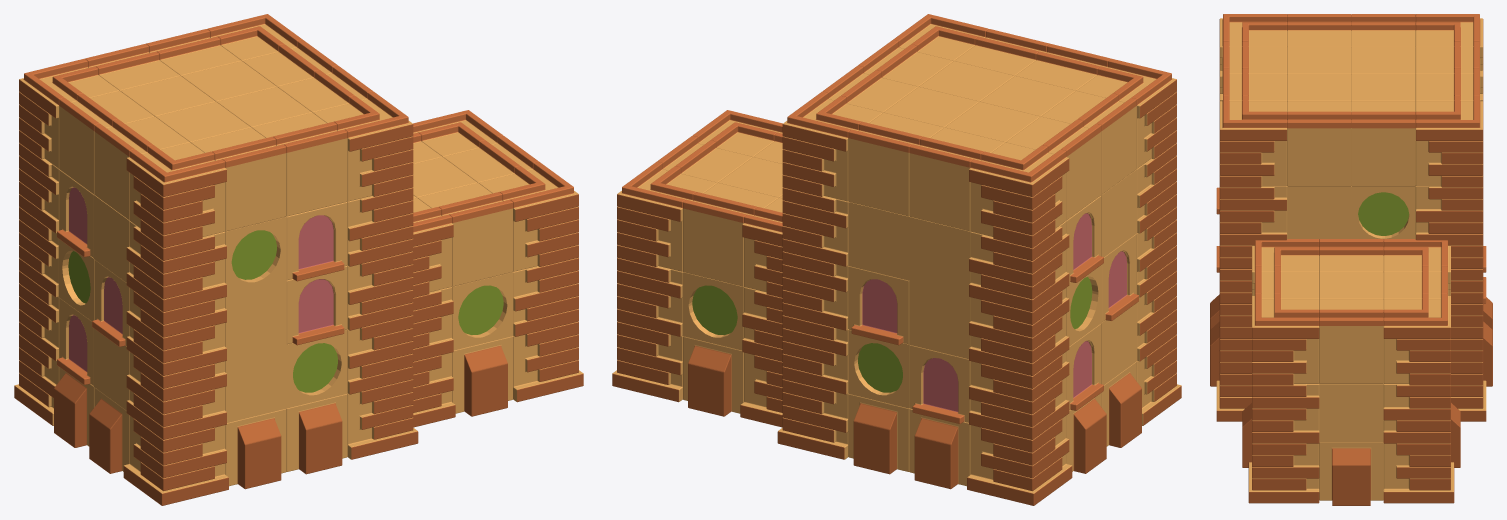
File: house v3.013.fbx
The picture shows the model from 3 angles, left to right: view 1: azimuth 30°, elevation 25°; view 2: azimuth 150°, elevation 25°; view 3: azimuth 270°, elevation 25°; orthographic projection. The views are drawn at different scales.
Visible parts, largest first — view 1: House; view 2: House; view 3: House.
Boxes of the visible parts, box(x1,y1,x2,y2) form: House: box(14, 14, 583, 505); House: box(612, 14, 1181, 505); House: box(1210, 14, 1492, 505).
Bounding box in the file's own units: 740 × 510 × 440.
